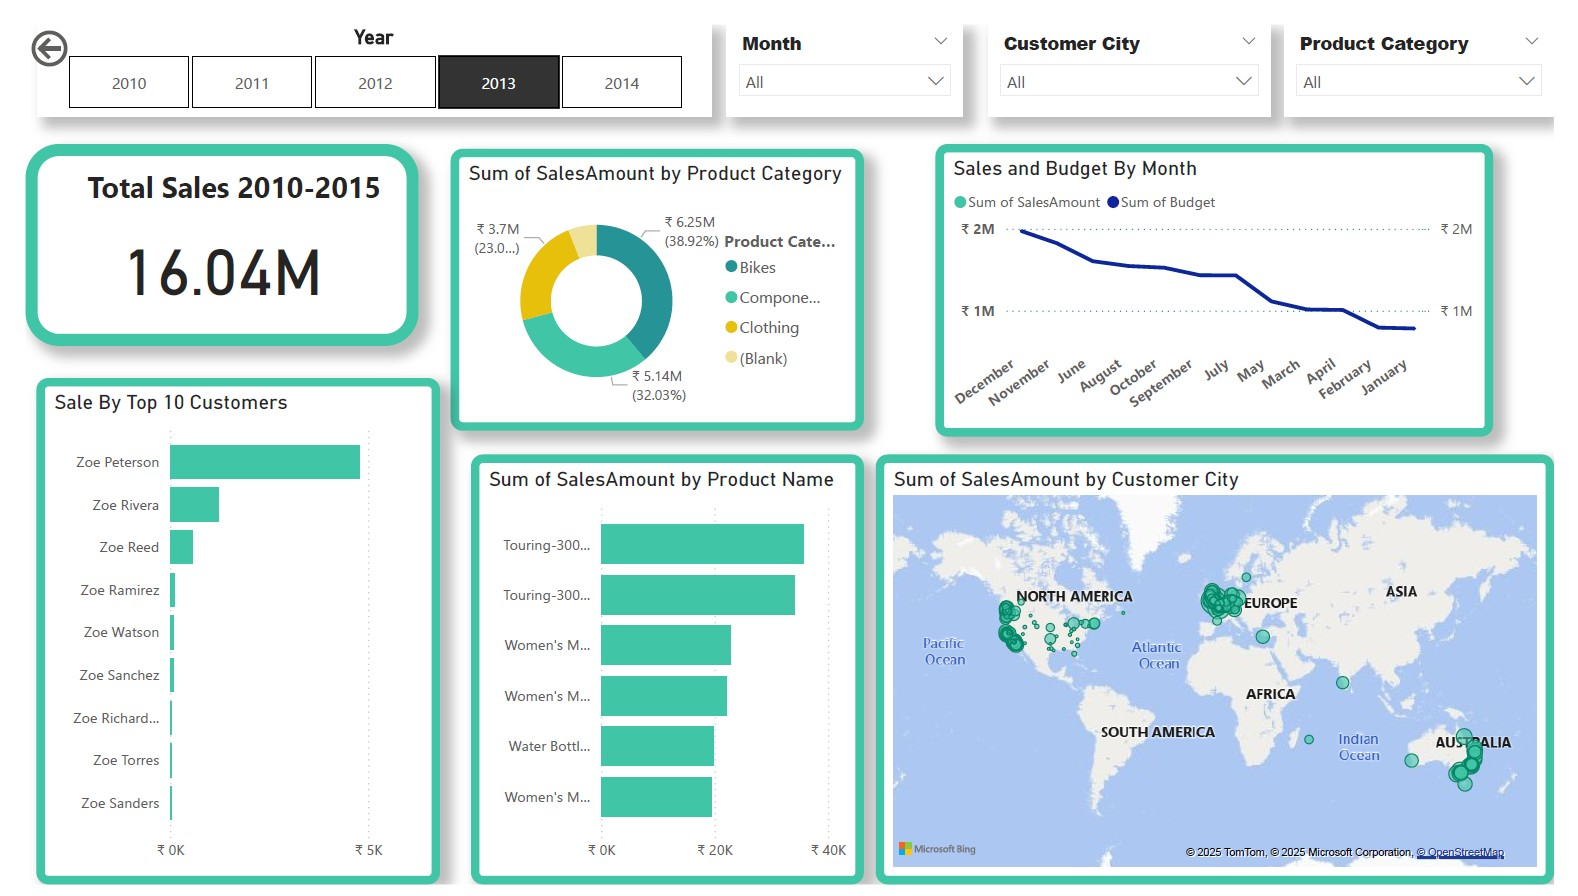

Layout of this report page (visuals, bound fields, positions):
{"tool":"powerbi","page":{"name":"Sales Overview","canvas":[1280,720],"ordinal":0},"visuals":[{"type":"card","title":"Total Sales 2010-2015","fields":{"Values":["FactSales.SalesAmount"]},"box":[0,100.3,328.9,168.8],"z":0},{"type":"slicer","title":"Year","fields":{"Values":["DimDate.Year"]},"box":[9.8,0,563.7,77],"z":1000},{"type":"actionButton","box":[0,0,100,40],"z":2000},{"type":"slicer","fields":{"Values":["DimDate.Month"]},"box":[587,0,198.1,77],"z":3000},{"type":"slicer","fields":{"Values":["DimCustomer.Customer City"]},"box":[805.8,0,237.2,77],"z":4000},{"type":"slicer","fields":{"Values":["DIimProduct.Product Category"]},"box":[1054.1,0,226.2,77],"z":5000},{"type":"donutChart","fields":{"Category":["DIimProduct.Product Category"],"Y":["FactSales.SalesAmount"]},"box":[355.8,103.9,346.1,236],"z":6000},{"type":"lineChart","title":"Sales and Budget By Month","fields":{"Y":["FactSales.SalesAmount"],"Category":["DimDate.Month"],"Y2":["FactSales.Budget"]},"box":[761.8,100.3,467.1,244.6],"z":7000},{"type":"clusteredBarChart","title":"Sale By Top 10 Customers","fields":{"Category":["DimCustomer.Full Name"],"Y":["FactSales.SalesAmount"]},"box":[8.6,295.9,338.7,424.3],"z":8000},{"type":"clusteredBarChart","fields":{"Category":["DIimProduct.Product Name"],"Y":["FactSales.SalesAmount"]},"box":[373,359.5,328.9,360.7],"z":9000},{"type":"map","fields":{"Category":["DimCustomer.Customer City"],"Size":["FactSales.SalesAmount"]},"box":[711.7,359.5,568.6,360.7],"z":10000}]}

Visuals, with their boxes in screenshot pixels (x1, y1, x2, y2), scaled from the page's 1280x720 canvas onto the 1578x896 screenshot:
"Total Sales 2010-2015" card: bbox=(0, 125, 405, 335)
"Year" slicer: bbox=(12, 0, 707, 96)
actionButton: bbox=(0, 0, 123, 50)
slicer - DimDate.Month: bbox=(724, 0, 968, 96)
slicer - DimCustomer.Customer City: bbox=(993, 0, 1286, 96)
slicer - DIimProduct.Product Category: bbox=(1300, 0, 1577, 96)
donutChart - DIimProduct.Product Category x FactSales.SalesAmount: bbox=(439, 129, 865, 423)
"Sales and Budget By Month" lineChart: bbox=(939, 125, 1515, 429)
"Sale By Top 10 Customers" clusteredBarChart: bbox=(11, 368, 428, 895)
clusteredBarChart - DIimProduct.Product Name x FactSales.SalesAmount: bbox=(460, 447, 865, 895)
map - DimCustomer.Customer City x FactSales.SalesAmount: bbox=(877, 447, 1577, 895)
